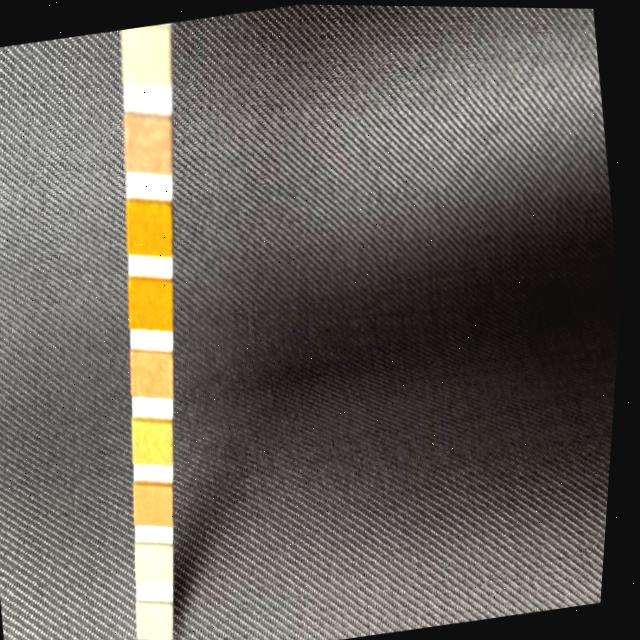Bilirubin: (120, 25, 177, 90)
Blood: (130, 278, 183, 330)
Ketone: (123, 111, 179, 176)
Leukocytes: (143, 601, 184, 638)
Nitrite: (141, 540, 185, 584)
Protein: (134, 420, 183, 464)
SpGravity: (126, 197, 180, 257)
Urobilinogen: (139, 481, 183, 525)
pH: (132, 350, 183, 395)
